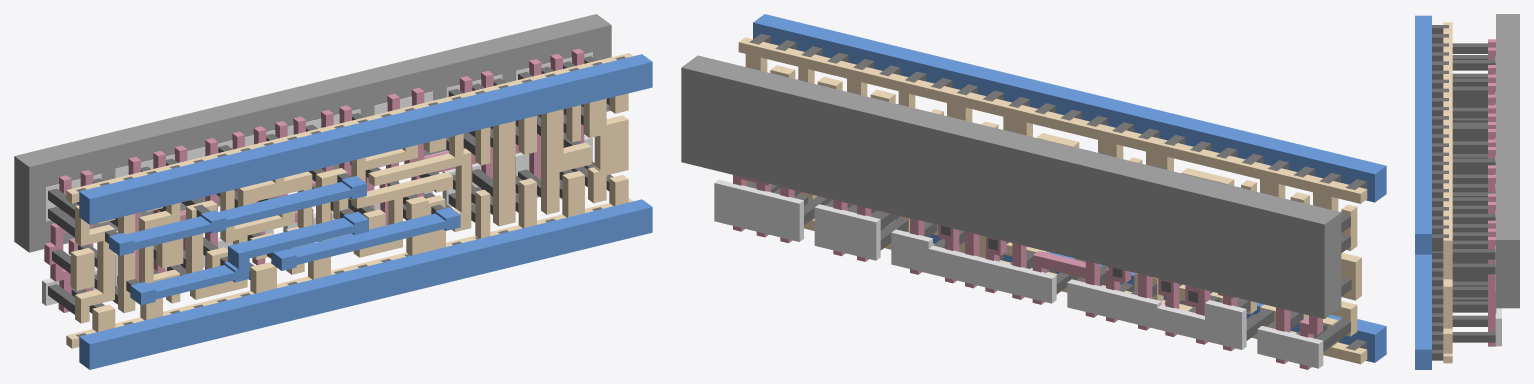
File: sky130_fd_sc_hd__dfsbp_2.gds.gltf
3 renders of one model, left to right at view 1: azimuth 30°, elevation 25°; view 2: azimuth 150°, elevation 25°; view 3: azimuth 270°, elevation 25°, orthographic. The views are drawn at different scales.
Visible parts, largest first — view 1: sky130_fd_sc_hd__dfsbp_2_met1, sky130_fd_sc_hd__dfsbp_2_li1, sky130_fd_sc_hd__dfsbp_2_nwell, sky130_fd_sc_hd__dfsbp_2_poly, sky130_fd_sc_hd__dfsbp_2_licon, sky130_fd_sc_hd__dfsbp_2_diff, sky130_fd_sc_hd__dfsbp_2_mcon; view 2: sky130_fd_sc_hd__dfsbp_2_nwell, sky130_fd_sc_hd__dfsbp_2_diff, sky130_fd_sc_hd__dfsbp_2_li1, sky130_fd_sc_hd__dfsbp_2_met1, sky130_fd_sc_hd__dfsbp_2_poly, sky130_fd_sc_hd__dfsbp_2_licon, sky130_fd_sc_hd__dfsbp_2_mcon; view 3: sky130_fd_sc_hd__dfsbp_2_licon, sky130_fd_sc_hd__dfsbp_2_nwell, sky130_fd_sc_hd__dfsbp_2_met1, sky130_fd_sc_hd__dfsbp_2_mcon, sky130_fd_sc_hd__dfsbp_2_li1, sky130_fd_sc_hd__dfsbp_2_poly, sky130_fd_sc_hd__dfsbp_2_diff.
Boxes of the visible parts, bbox=[...] form: sky130_fd_sc_hd__dfsbp_2_met1: bbox=[79, 54, 652, 369]; sky130_fd_sc_hd__dfsbp_2_li1: bbox=[66, 53, 633, 348]; sky130_fd_sc_hd__dfsbp_2_nwell: bbox=[14, 14, 611, 252]; sky130_fd_sc_hd__dfsbp_2_poly: bbox=[44, 48, 584, 312]; sky130_fd_sc_hd__dfsbp_2_licon: bbox=[48, 56, 612, 314]; sky130_fd_sc_hd__dfsbp_2_diff: bbox=[42, 52, 592, 305]; sky130_fd_sc_hd__dfsbp_2_mcon: bbox=[76, 56, 625, 337]; sky130_fd_sc_hd__dfsbp_2_nwell: bbox=[681, 55, 1341, 318]; sky130_fd_sc_hd__dfsbp_2_diff: bbox=[714, 179, 1323, 368]; sky130_fd_sc_hd__dfsbp_2_li1: bbox=[738, 37, 1367, 364]; sky130_fd_sc_hd__dfsbp_2_met1: bbox=[753, 14, 1386, 362]; sky130_fd_sc_hd__dfsbp_2_poly: bbox=[733, 175, 1322, 369]; sky130_fd_sc_hd__dfsbp_2_licon: bbox=[747, 67, 1351, 351]; sky130_fd_sc_hd__dfsbp_2_mcon: bbox=[749, 33, 1366, 350]; sky130_fd_sc_hd__dfsbp_2_licon: bbox=[1452, 43, 1495, 342]; sky130_fd_sc_hd__dfsbp_2_nwell: bbox=[1496, 14, 1519, 308]; sky130_fd_sc_hd__dfsbp_2_met1: bbox=[1415, 15, 1431, 369]; sky130_fd_sc_hd__dfsbp_2_mcon: bbox=[1432, 25, 1448, 360]; sky130_fd_sc_hd__dfsbp_2_li1: bbox=[1443, 22, 1452, 363]; sky130_fd_sc_hd__dfsbp_2_poly: bbox=[1488, 39, 1496, 346]; sky130_fd_sc_hd__dfsbp_2_diff: bbox=[1495, 56, 1501, 346].
Bounding box in the file's own units: 11.42 × 3.2 × 2.24.
